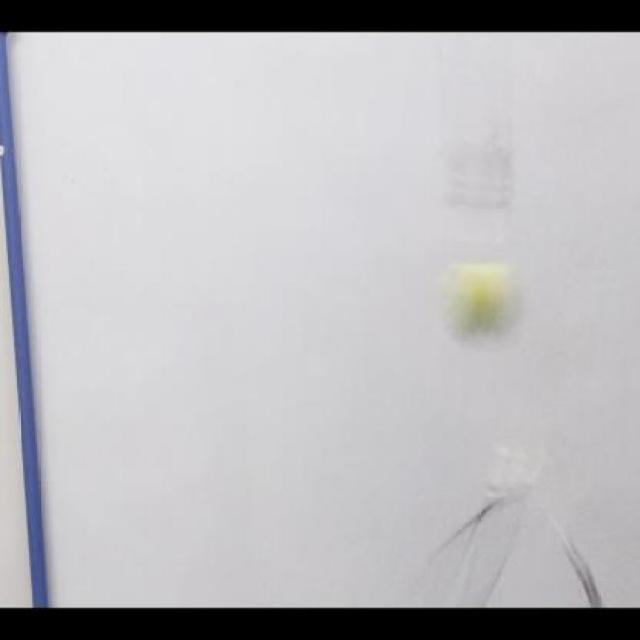baseball: (437, 254, 518, 337)
